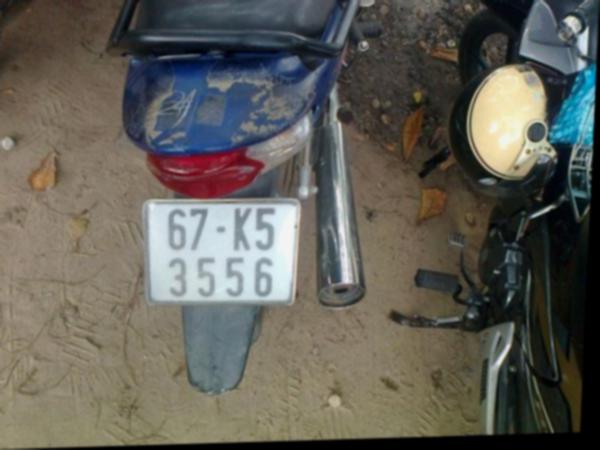License_Plate: (141, 196, 298, 308)
